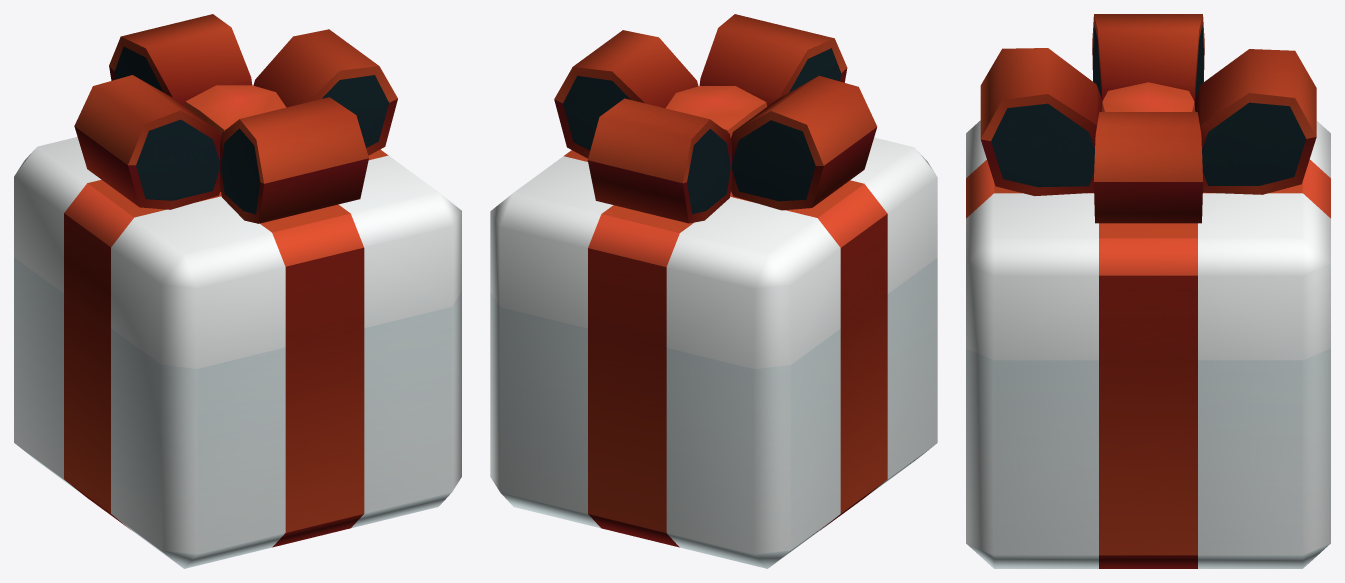
The model's file is presi_square_4_white.fbx.
3 renders of one model, left to right at view 1: azimuth 30°, elevation 25°; view 2: azimuth 150°, elevation 25°; view 3: azimuth 270°, elevation 25°, orthographic. The views are drawn at different scales.
Visible parts, largest first — view 1: presi_square_4_white; view 2: presi_square_4_white; view 3: presi_square_4_white.
Part boxes in pixels (x1,y1,x2,y2): presi_square_4_white: (14, 14, 461, 568); presi_square_4_white: (490, 14, 937, 568); presi_square_4_white: (966, 14, 1330, 568).
Size of the model in its own units: 75 by 98 by 75.
Materials: 1 (1 with a texture image).
